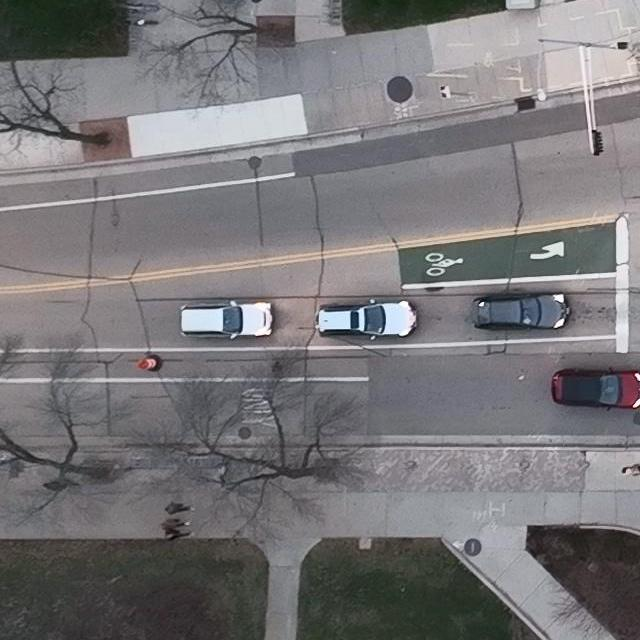car: (315, 298, 417, 341), (472, 289, 572, 332), (551, 367, 640, 413), (179, 299, 272, 341)
